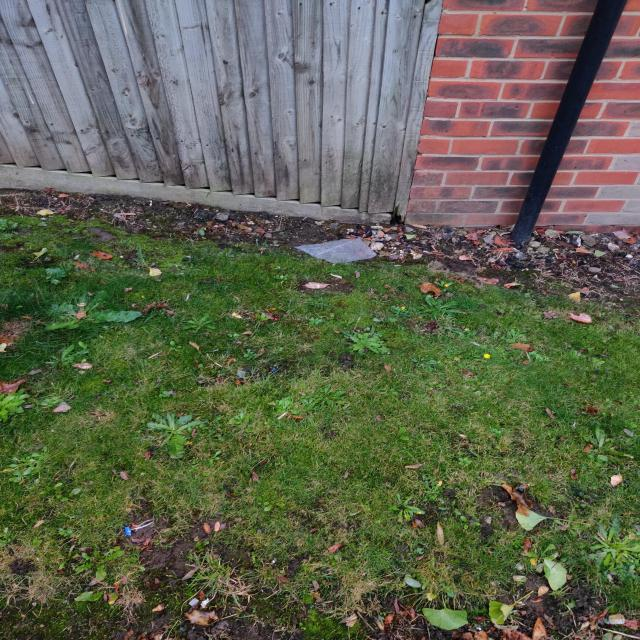litter: (293, 238, 376, 264), (125, 520, 154, 536), (189, 598, 198, 606), (185, 293, 190, 300)
